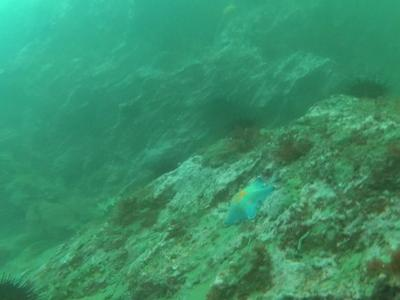urchin: (343, 75, 387, 100), (3, 272, 43, 298)
